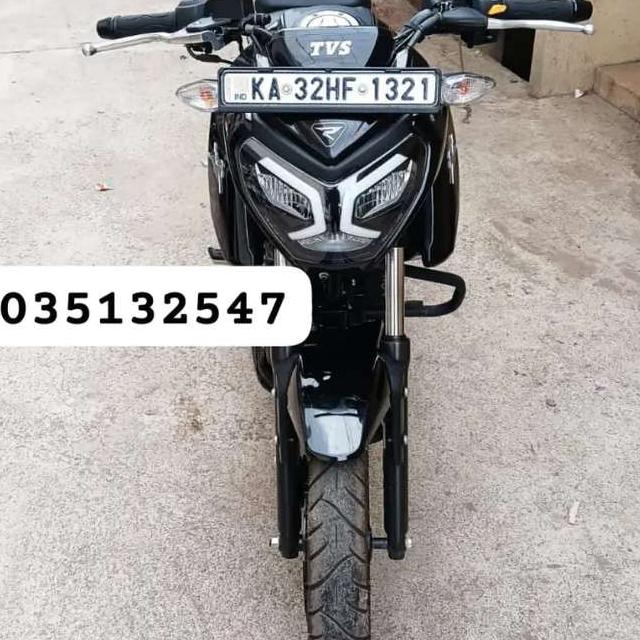Indian_Number_Plate: (218, 67, 440, 109)
